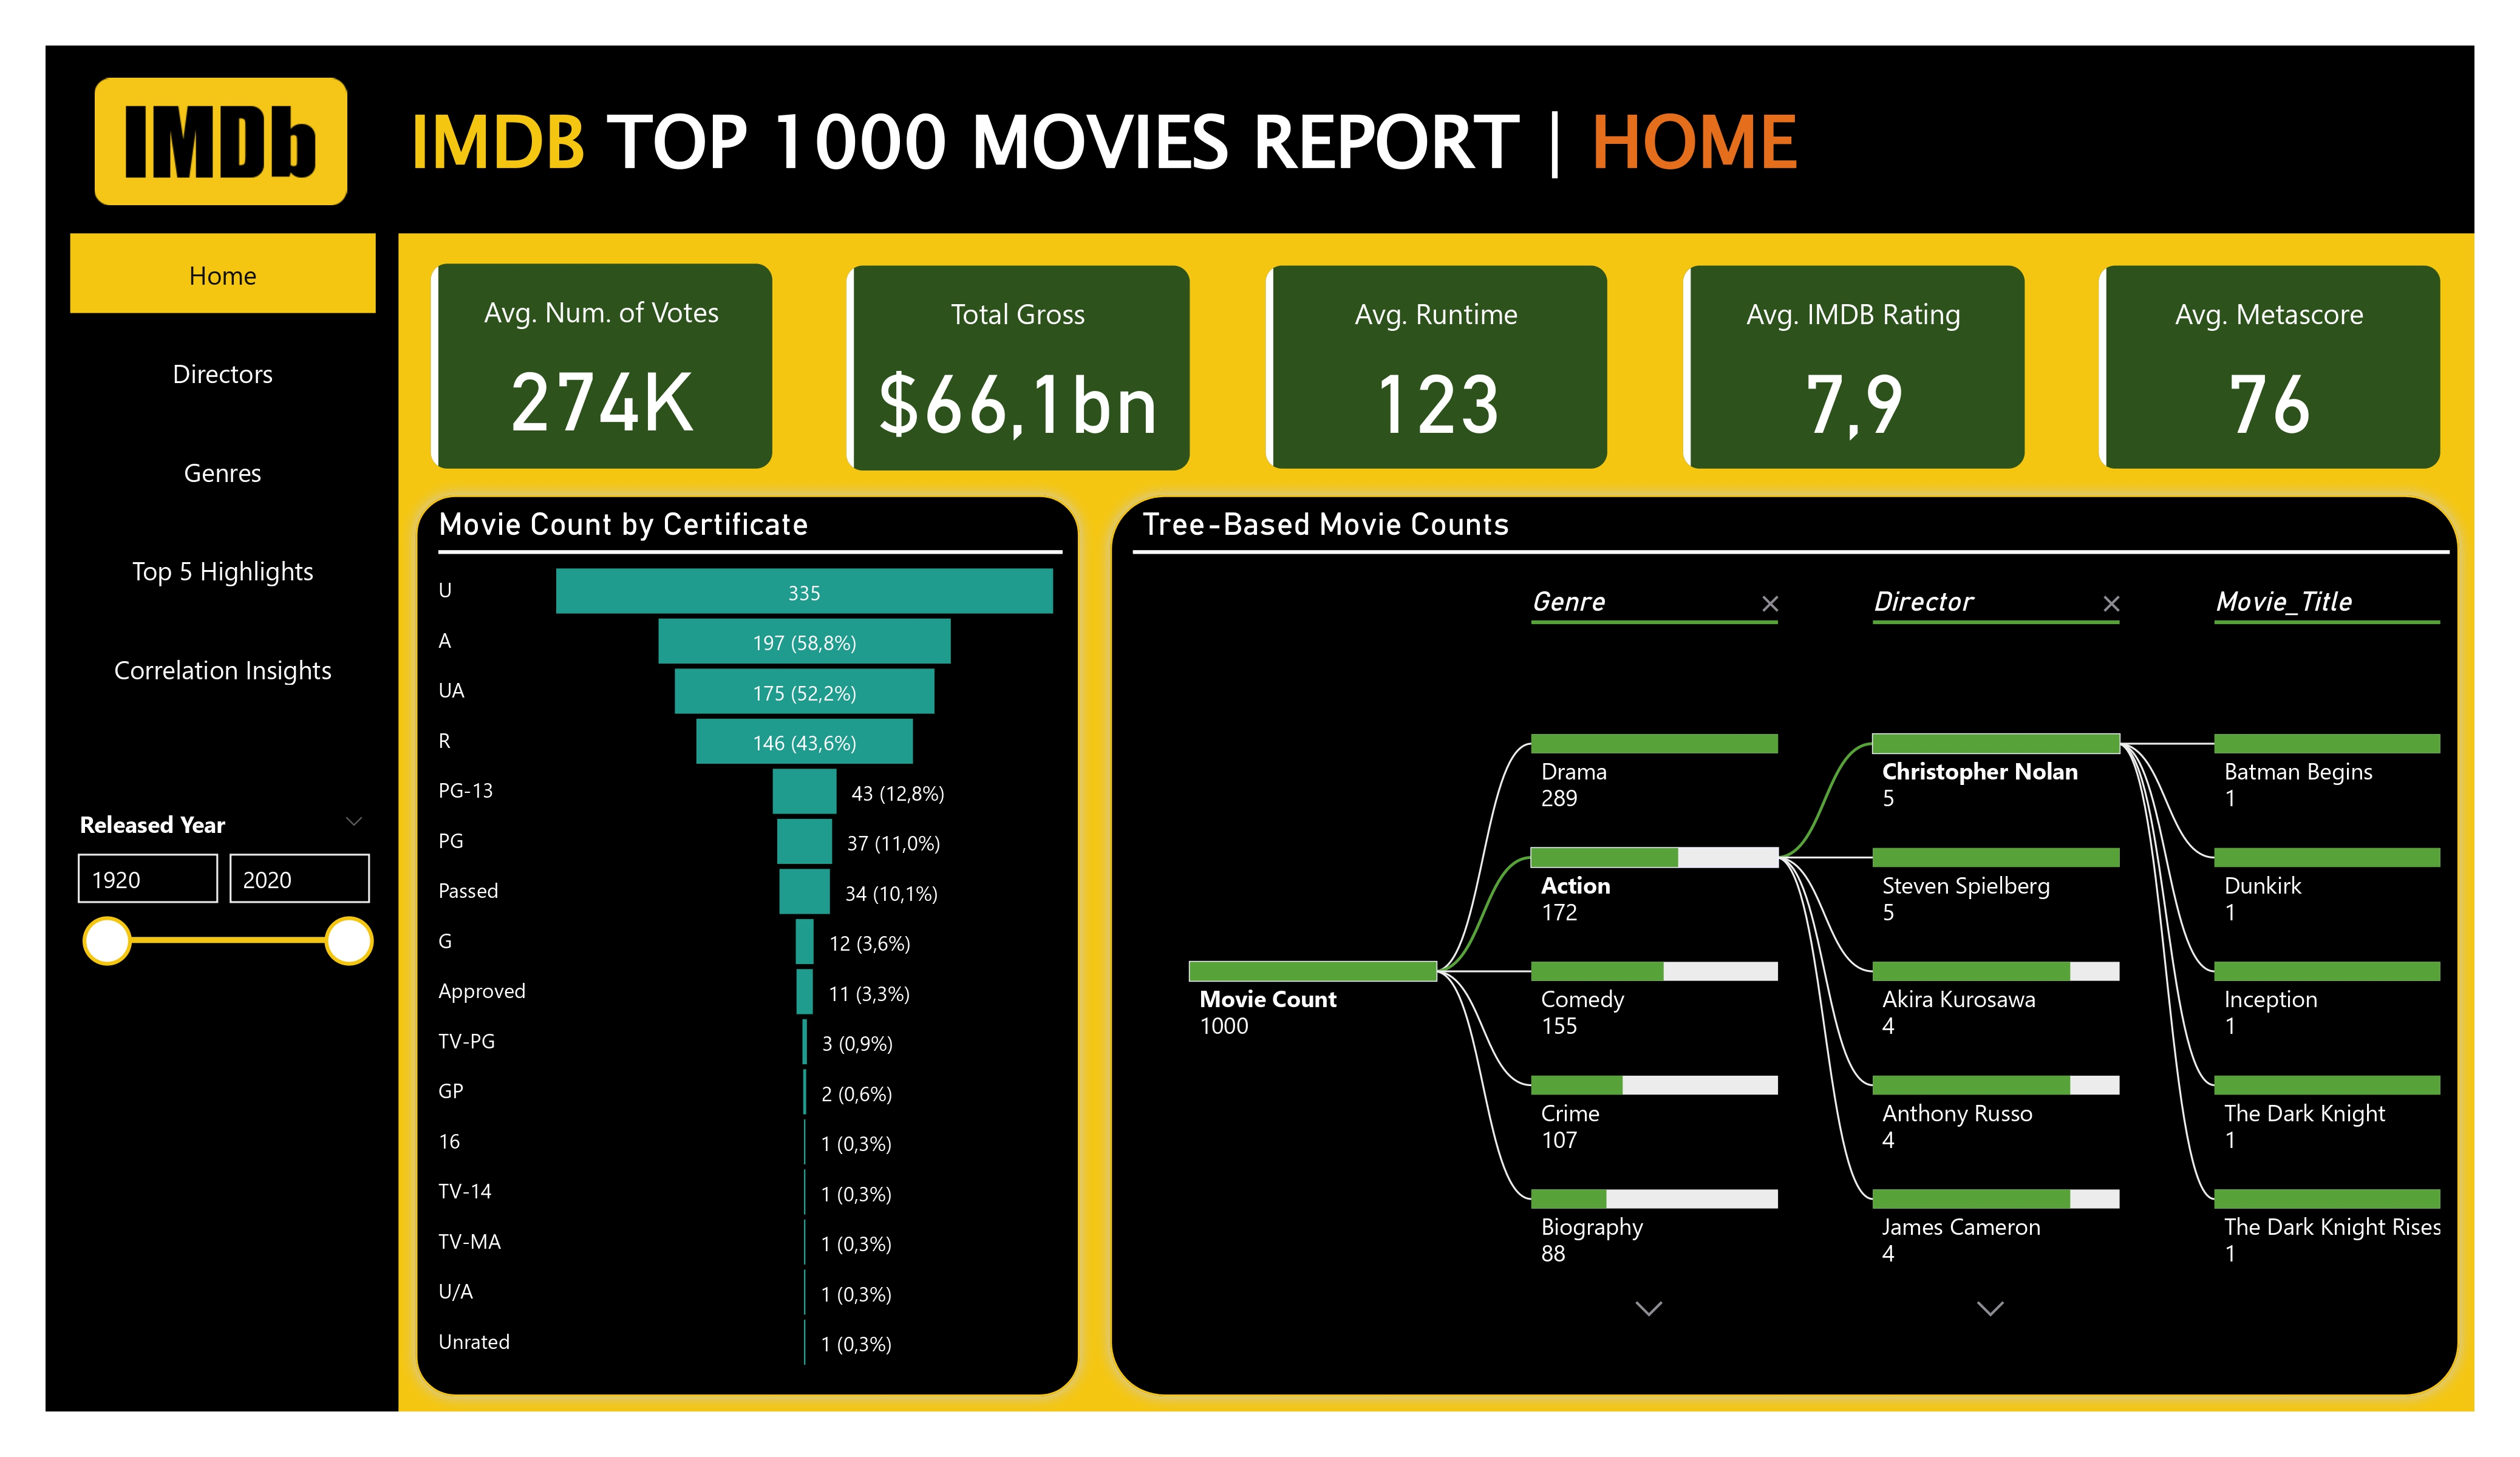

This screenshot's page, from the dashboard's own definition file:
{"tool":"powerbi","page":{"name":"Home","canvas":[1280,720],"ordinal":0},"visuals":[{"type":"shape","box":[187,229,366,491],"z":0},{"type":"shape","box":[553,229,727,491],"z":1000},{"type":"shape","box":[185.3,0,1095.1,99.3],"z":2000},{"type":"shape","box":[0,0,186.4,720],"z":3000},{"type":"textbox","box":[186.7,1,1093.3,98.4],"z":4000},{"type":"image","box":[21.3,12.4,142.8,76.3],"z":5000},{"type":"pageNavigator","box":[13,99,161,250],"z":6000},{"type":"funnel","title":"Movie Count by Certificate","fields":{"Category":["IMBD_Top_1000_Movies.Certificate"],"Y":["_Measures.Movie Count"]},"box":[202,242,339,461],"z":7000},{"type":"slicer","fields":{"Values":["IMBD_Top_1000_Movies.Released_Year"]},"box":[4,396,177,103],"z":8000},{"type":"cardVisual","fields":{"Data":["_Measures.Avg. Runtime"]},"box":[638.1,111.4,190,116.7],"z":9000},{"type":"cardVisual","fields":{"Data":["_Measures.Total Gross"]},"box":[417.4,110.9,191,117.7],"z":10000},{"type":"cardVisual","fields":{"Data":["_Measures.Avg. Metascore"]},"box":[1077.4,110.9,190,116.7],"z":11000},{"type":"cardVisual","fields":{"Data":["_Measures.Avg. IMDB Rating"]},"box":[857.8,111.2,190,116.7],"z":12000},{"type":"cardVisual","fields":{"Data":["_Measures.Avg. Number of Votes"]},"box":[197.7,110,190,117.7],"z":13000},{"type":"decompositionTreeVisual","title":"Tree-Based Movie Counts","fields":{"ExplainBy":["Movie_Genre.Genre","IMBD_Top_1000_Movies.Director","IMBD_Top_1000_Movies.Movie_Title"],"Analyze":["_Measures.Movie Count"]},"box":[573,242,694,461],"z":13500}]}

Visuals, with their boxes on the page's 1280x720 design canvas (x1, y1, x2, y2). These are canvas units, not pixel positions in the 2520x1457 screenshot, which may show the page scaled, cropped or inside an application window:
shape: bbox=[187, 229, 553, 720]
shape: bbox=[553, 229, 1280, 720]
shape: bbox=[185, 0, 1280, 99]
shape: bbox=[0, 0, 186, 720]
textbox: bbox=[187, 1, 1280, 99]
image: bbox=[21, 12, 164, 89]
pageNavigator: bbox=[13, 99, 174, 349]
"Movie Count by Certificate" funnel: bbox=[202, 242, 541, 703]
slicer - IMBD_Top_1000_Movies.Released_Year: bbox=[4, 396, 181, 499]
cardVisual - _Measures.Avg. Runtime: bbox=[638, 111, 828, 228]
cardVisual - _Measures.Total Gross: bbox=[417, 111, 608, 229]
cardVisual - _Measures.Avg. Metascore: bbox=[1077, 111, 1267, 228]
cardVisual - _Measures.Avg. IMDB Rating: bbox=[858, 111, 1048, 228]
cardVisual - _Measures.Avg. Number of Votes: bbox=[198, 110, 388, 228]
"Tree-Based Movie Counts" decompositionTreeVisual: bbox=[573, 242, 1267, 703]
